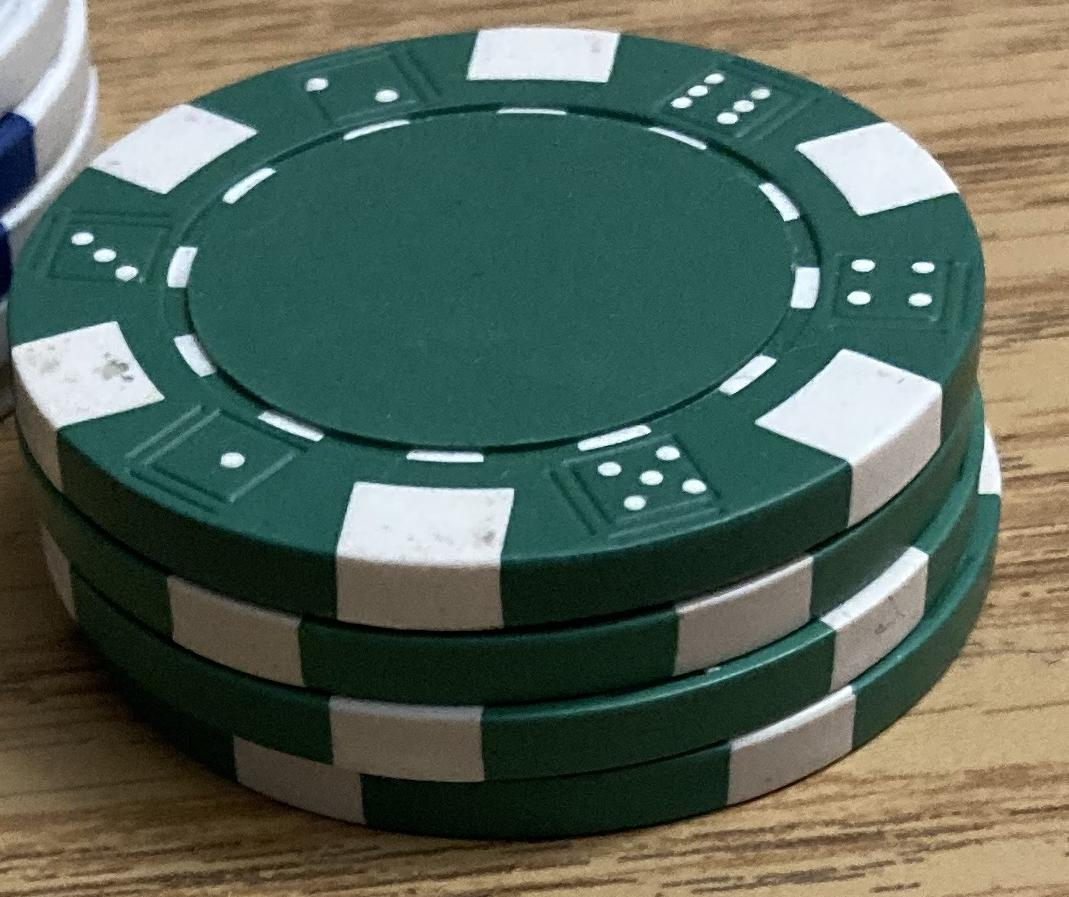Chip: (1, 1, 1069, 897)
